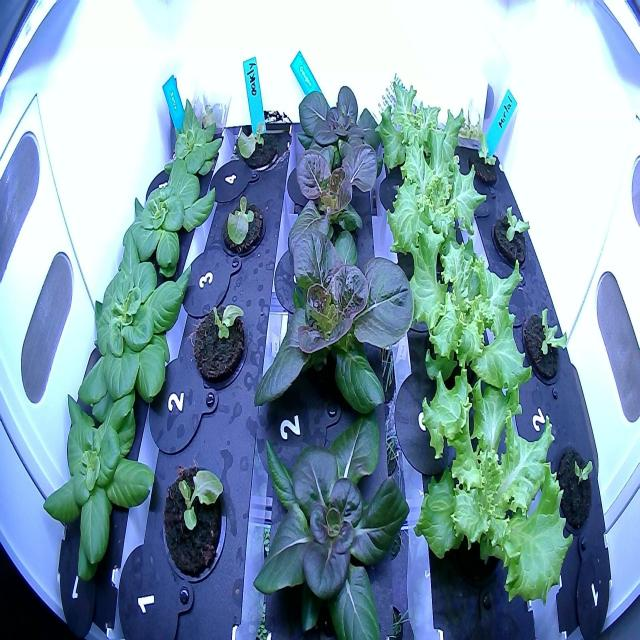young: (245, 384, 416, 640), (242, 208, 420, 432), (65, 224, 195, 444), (37, 374, 164, 589), (279, 134, 392, 284), (113, 144, 218, 300), (287, 74, 389, 206), (158, 94, 226, 193)
